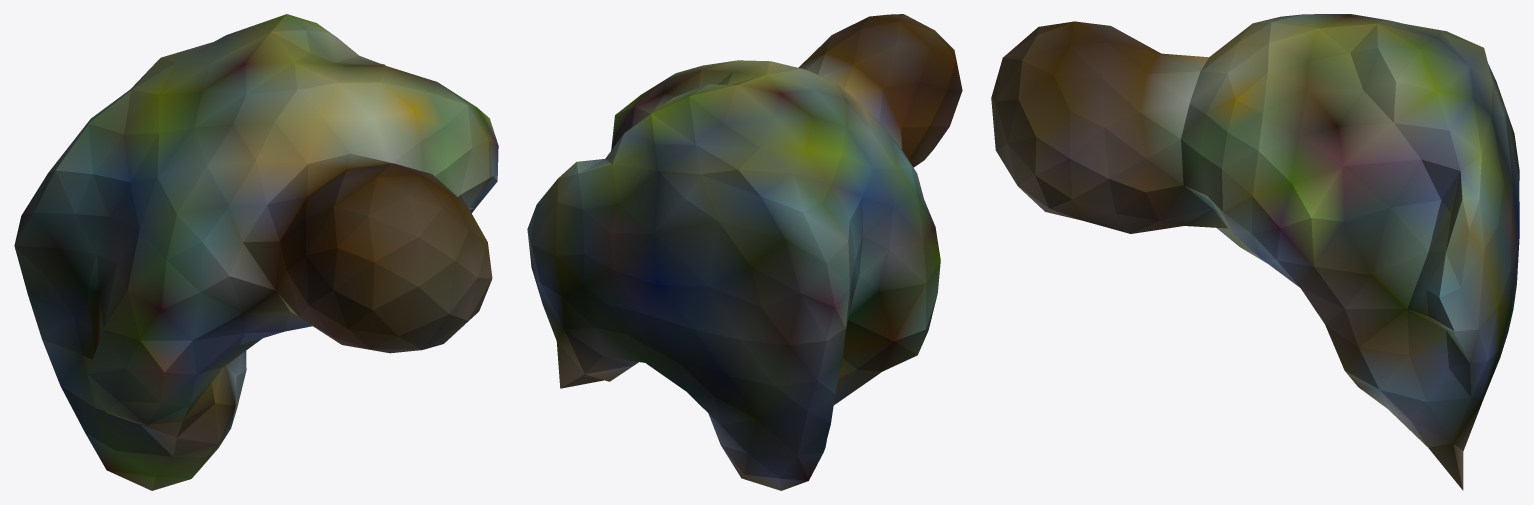
Rendered from baby-doll1.dae.
The picture shows the model from 3 angles, left to right: view 1: azimuth 30°, elevation 25°; view 2: azimuth 150°, elevation 25°; view 3: azimuth 270°, elevation 25°; orthographic projection. The views are drawn at different scales.
Visible parts, largest first — view 1: node; view 2: node; view 3: node.
Part boxes in pixels (x1,y1,x2,y2): node: (14, 14, 498, 490); node: (527, 14, 962, 490); node: (991, 14, 1519, 490).
Bounding box in the file's own units: 0.3328 × 0.3401 × 0.3593.
